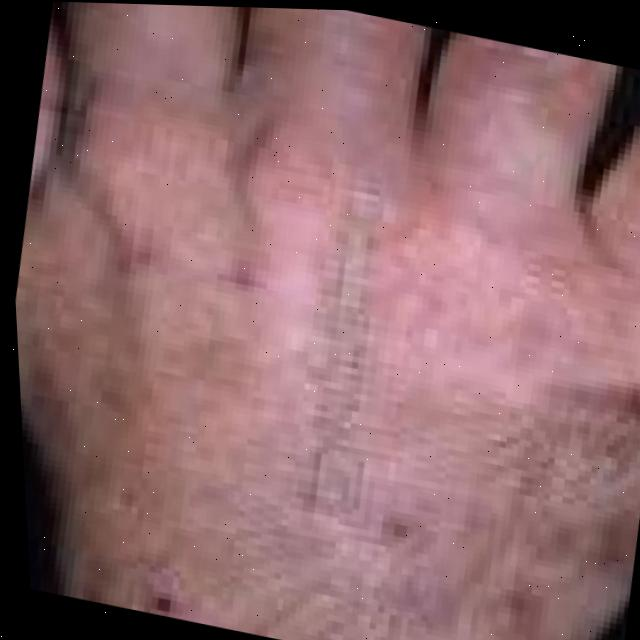Melasma: (88, 217, 640, 640)
